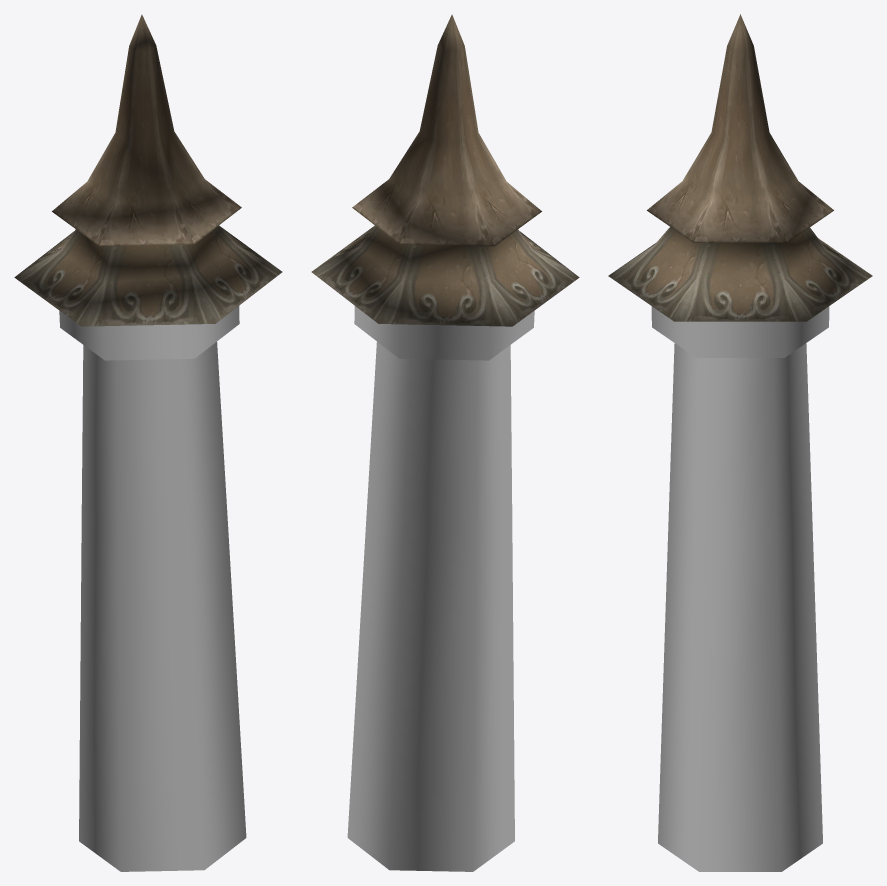
The model's file is undercitytower01.obj.
The picture shows the model from 3 angles, left to right: view 1: azimuth 30°, elevation 25°; view 2: azimuth 150°, elevation 25°; view 3: azimuth 270°, elevation 25°; orthographic projection.
Visible parts, largest first — view 1: UNDERCITYTOWER011, UNDERCITYTOWER012, UNDERCITYTOWER010; view 2: UNDERCITYTOWER011, UNDERCITYTOWER012, UNDERCITYTOWER010; view 3: UNDERCITYTOWER011, UNDERCITYTOWER012, UNDERCITYTOWER010.
Part boxes in pixels (x1,y1,x2,y2): UNDERCITYTOWER011: (79,342,246,871); UNDERCITYTOWER012: (14,14,282,326); UNDERCITYTOWER010: (59,306,239,360); UNDERCITYTOWER011: (347,342,514,871); UNDERCITYTOWER012: (311,14,579,326); UNDERCITYTOWER010: (354,306,534,360); UNDERCITYTOWER011: (658,343,822,871); UNDERCITYTOWER012: (608,14,872,321); UNDERCITYTOWER010: (651,306,829,357).
Bounding box in the file's own units: 12.32 × 48.67 × 14.23.
